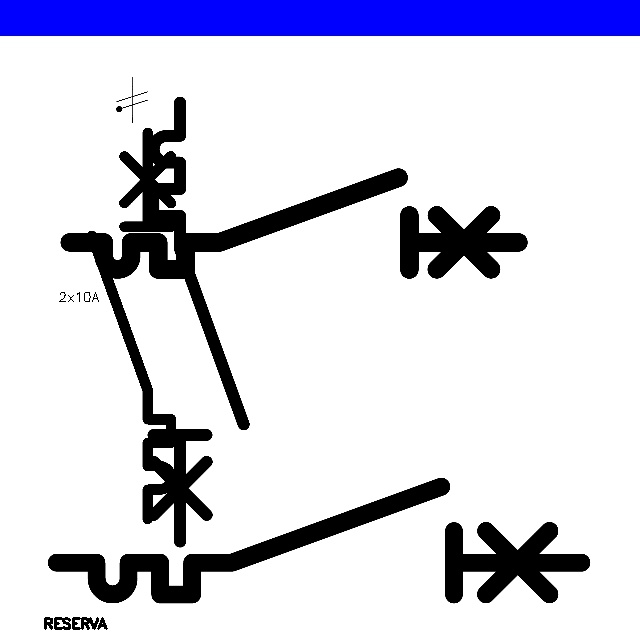interruptor_termomagnetico: (43, 473, 595, 608), (58, 166, 530, 281), (142, 91, 255, 553), (82, 122, 181, 528)
